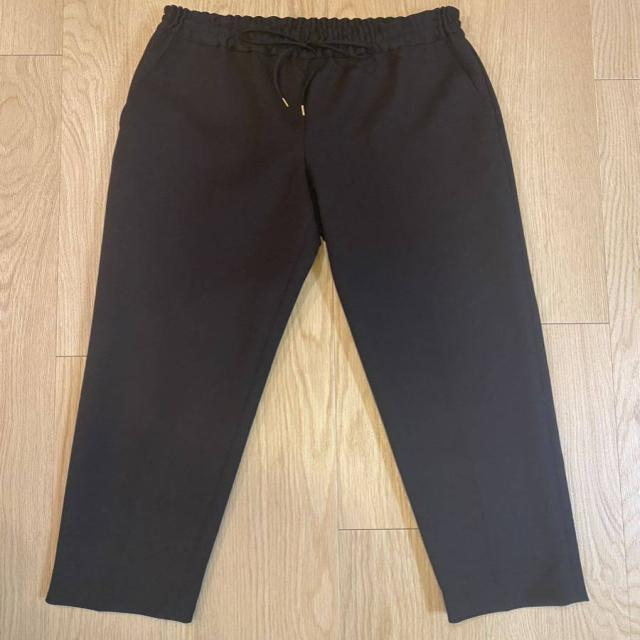long-pants: (41, 2, 591, 626)
